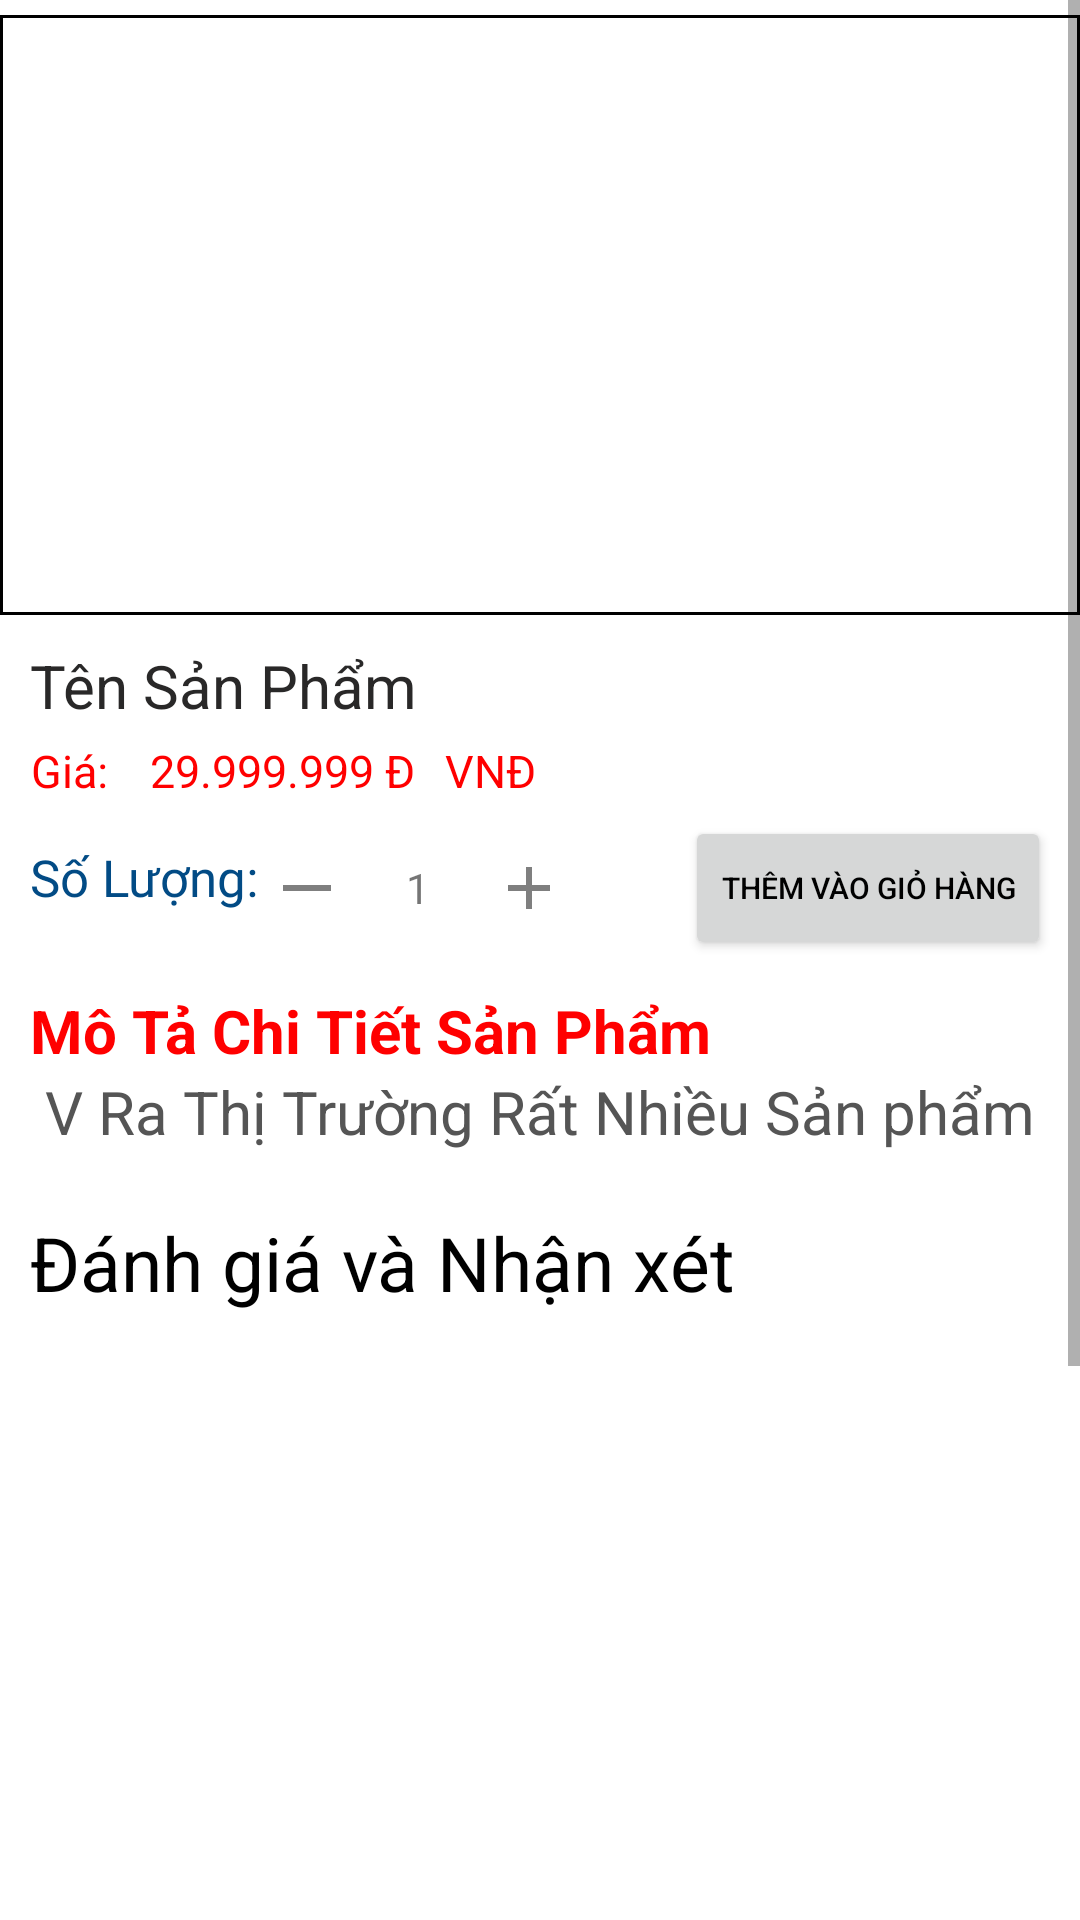

Locate icon controls on the screen. Image size 1080px x 1920px, boxes as (x1, y1, x2, y2).
cong: (508, 867, 550, 909)
